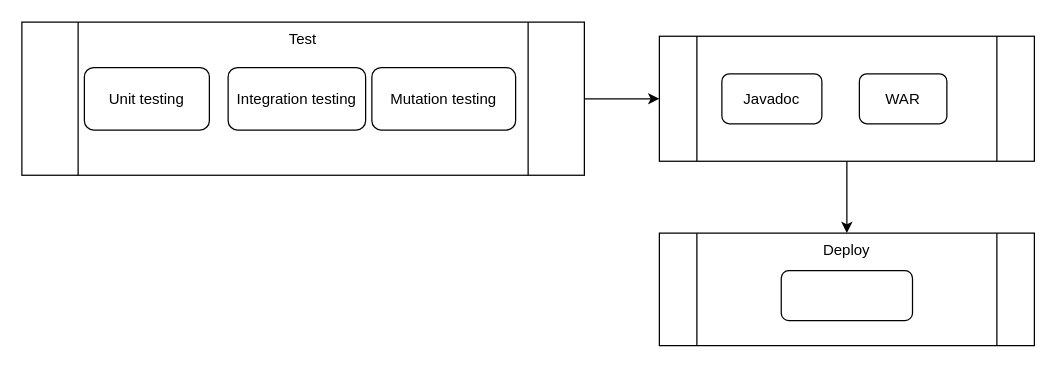
The diagram is 1056 pixels wide and 368 high, and some of its shapes have lost their labels. Here are the shapes that lost their labels. From the top down, the box of each, then its label:
(658, 35, 1034, 161): Build artifacts
(780, 269, 912, 321): Deploy to tomcat server
